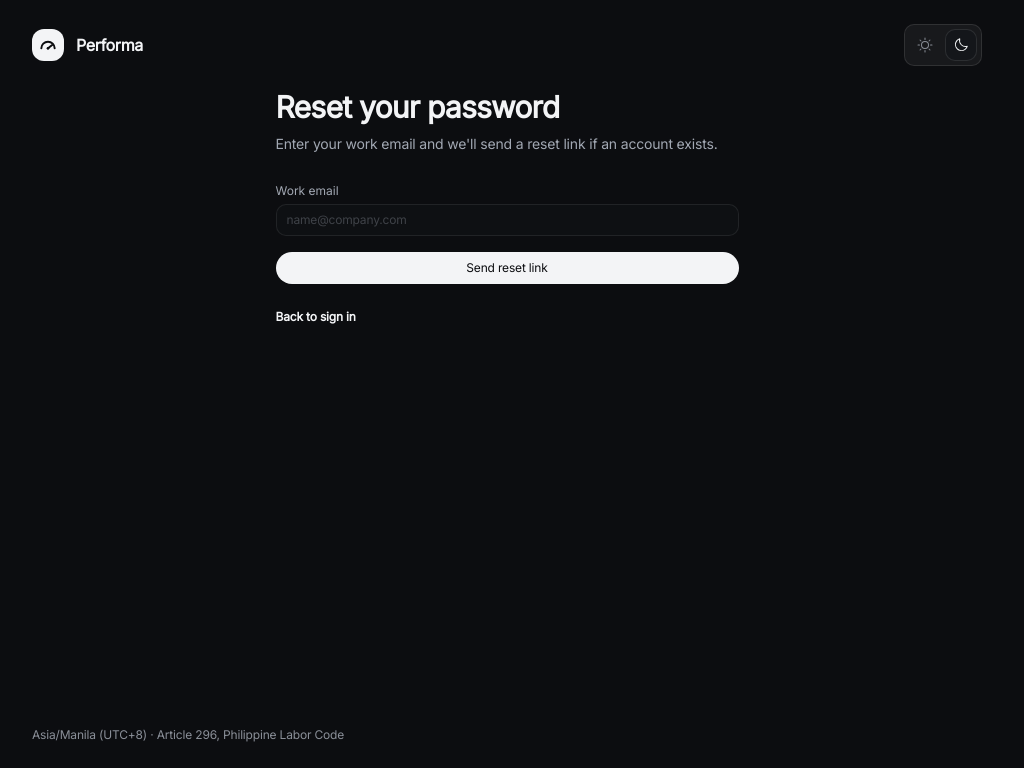
Test: ForgotPassword › confirms after requesting a link without revealing whether the account exists
Type "emp1@acme.com" into the field labelled "Work email" at (507, 220), box [276,204,738,236]
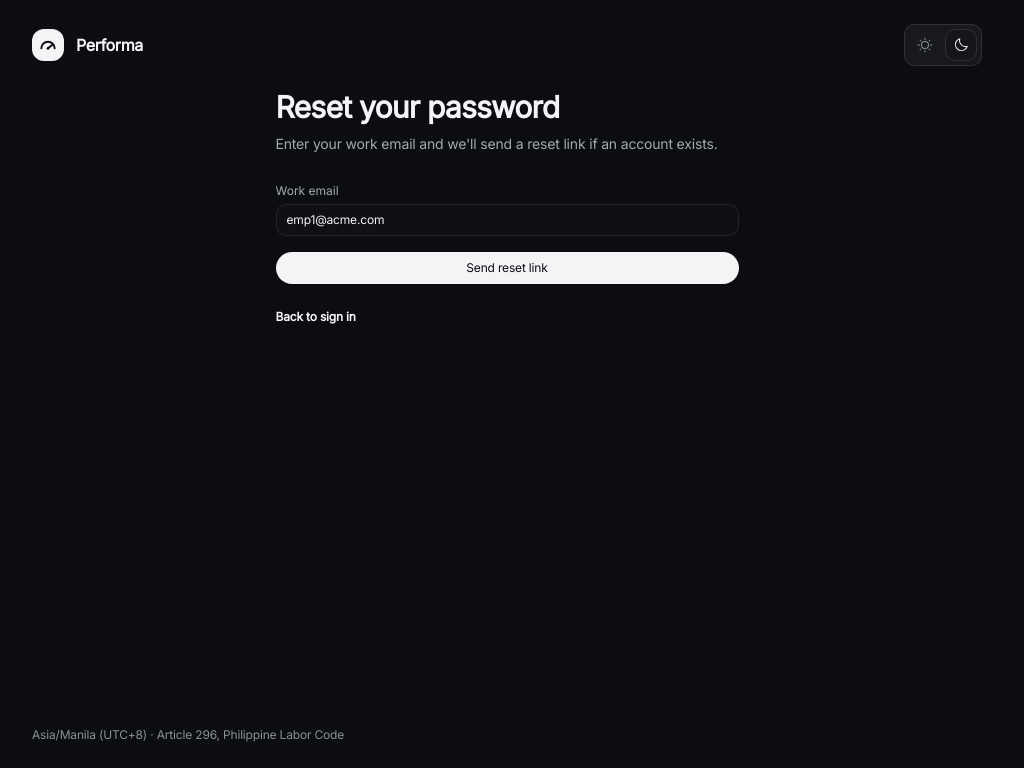
Click the button "Send reset link" at (507, 268), box [276,252,738,284]
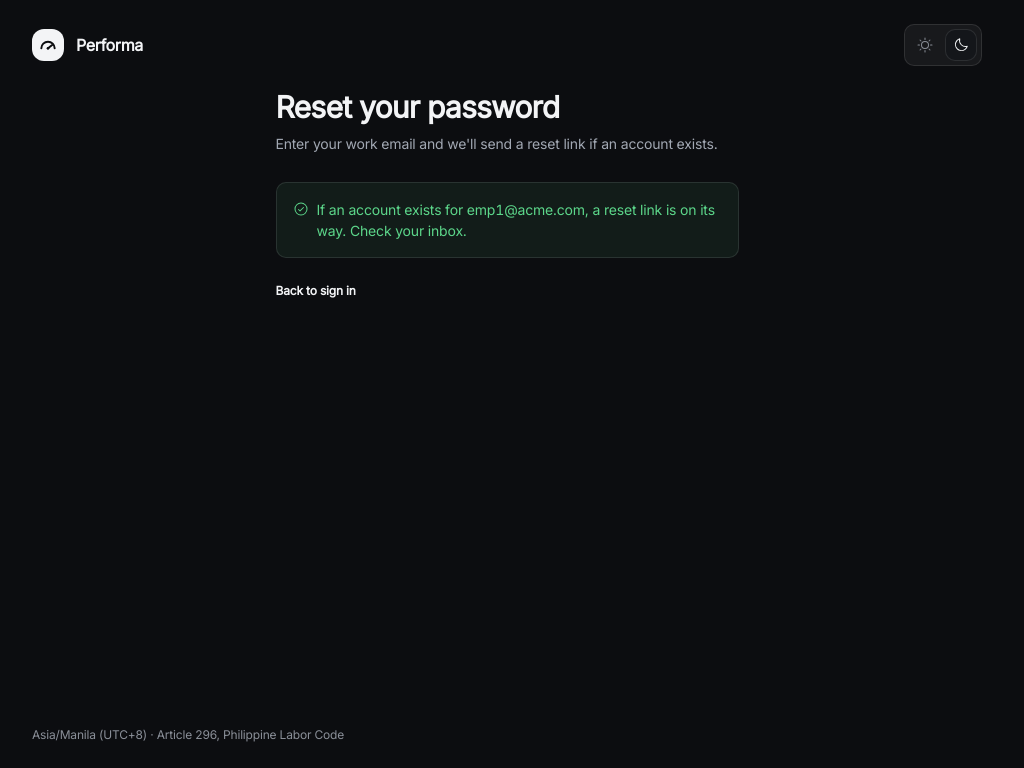
expect the message shows "If an account exists": met, box [316,200,467,218]
